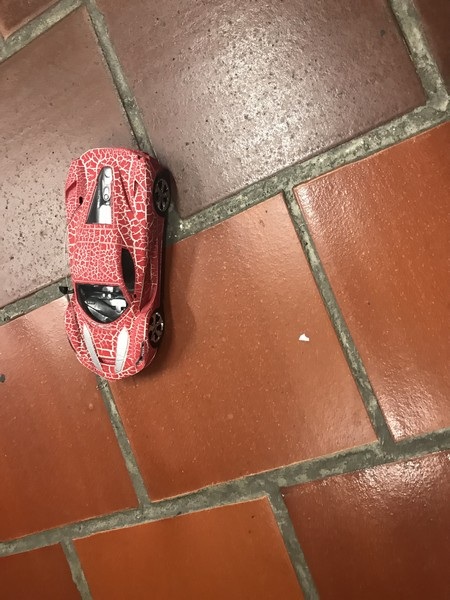RC: (61, 146, 174, 384)
